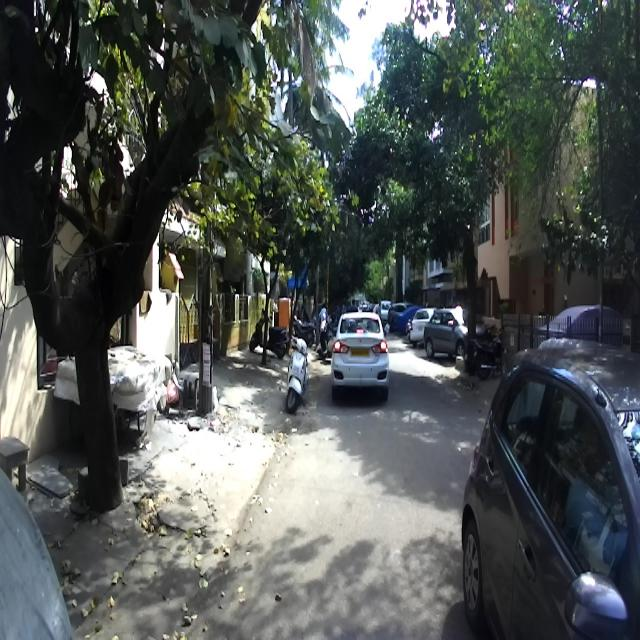car: (462, 337, 640, 639), (329, 310, 389, 400), (423, 306, 487, 358)
scooter: (282, 333, 312, 409), (250, 299, 288, 357)
